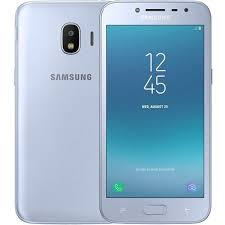samsung: (95, 1, 213, 223), (12, 1, 101, 225)
